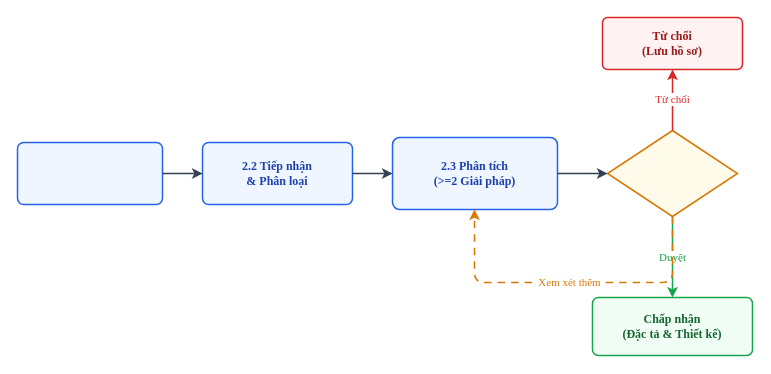
Image size: 771x374. Some labels were removed from this diagram. Here are the shapes that lost their labels. From the top down, the centre of each, then its label:
At (x=89, y=173): "2.1 Phiếu Đề xuất".
At (x=672, y=173): "2.4 CCB duyệt?".
